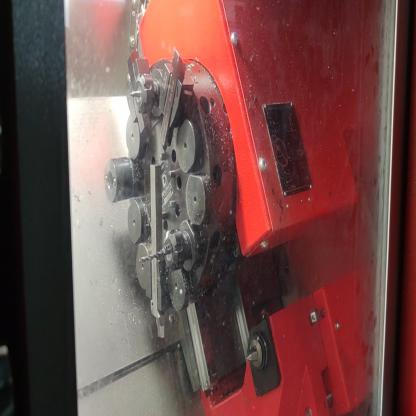bit: (141, 158, 172, 341), (156, 40, 197, 157), (123, 40, 155, 139)
